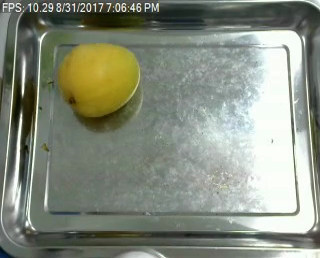Mango: (59, 44, 142, 118)
